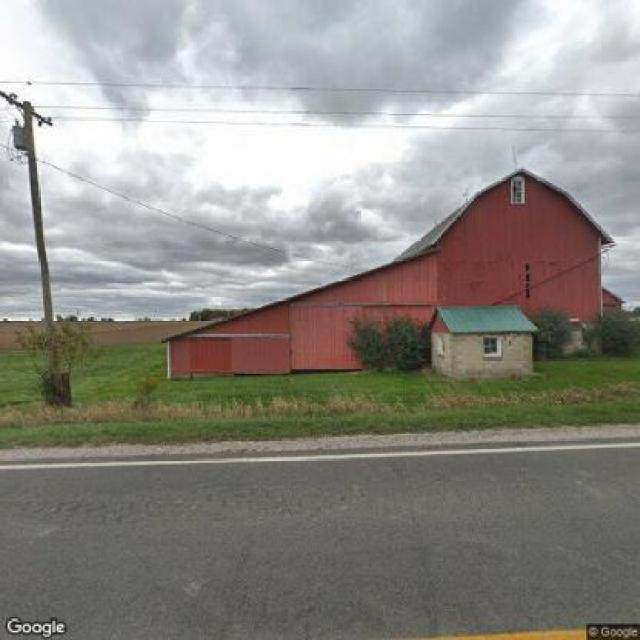pole: (1, 77, 82, 380)
